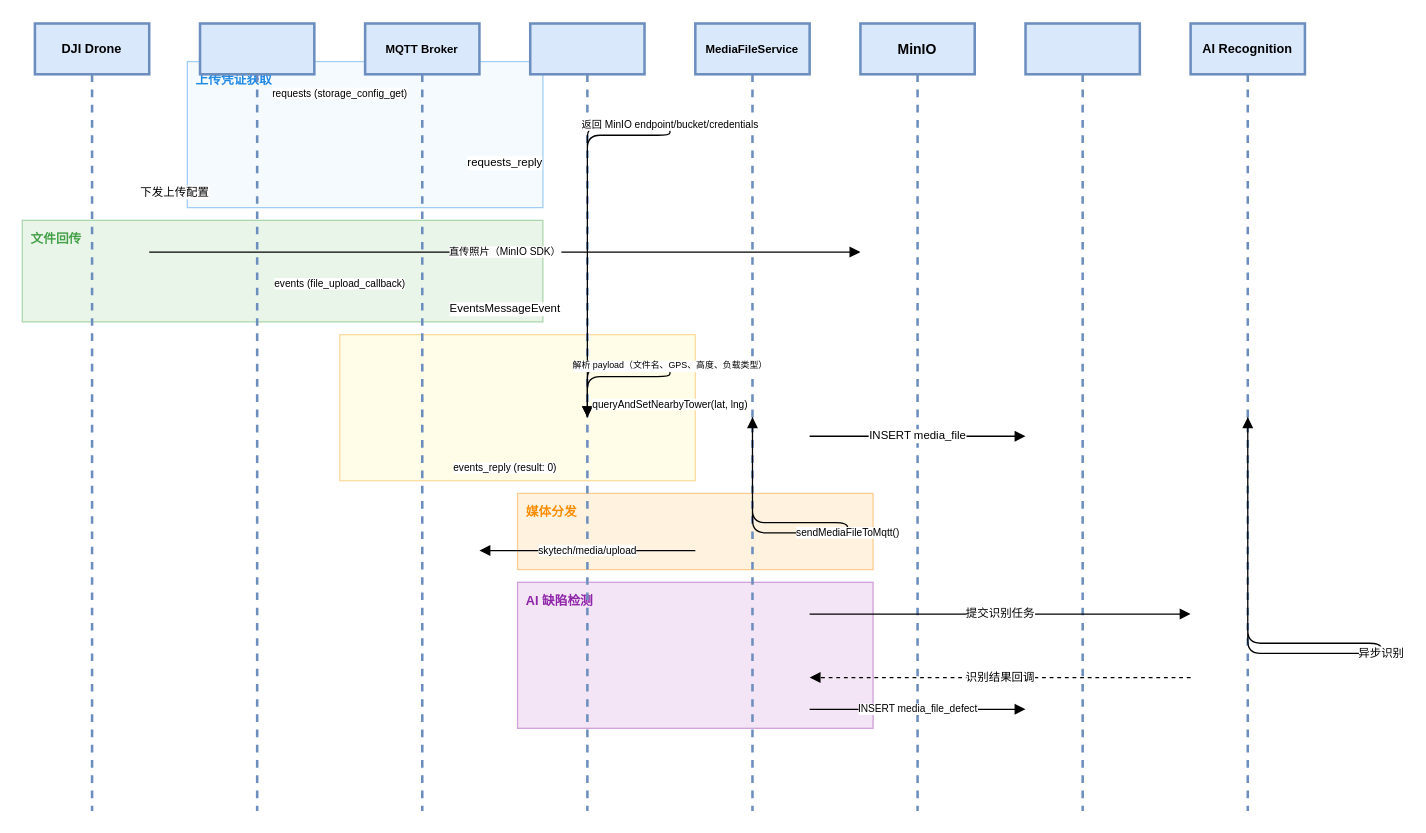
Some shapes in this 1426 by 833 pixel diagram are drawn without their labels. Here are the shapes that lost their labels. From the top down, the box of each, then its label:
(198, 22, 315, 812): DJI Dock
(338, 333, 695, 481): 媒体记录创建
(528, 22, 645, 812): MessageListener
(1024, 22, 1140, 812): MySQL
